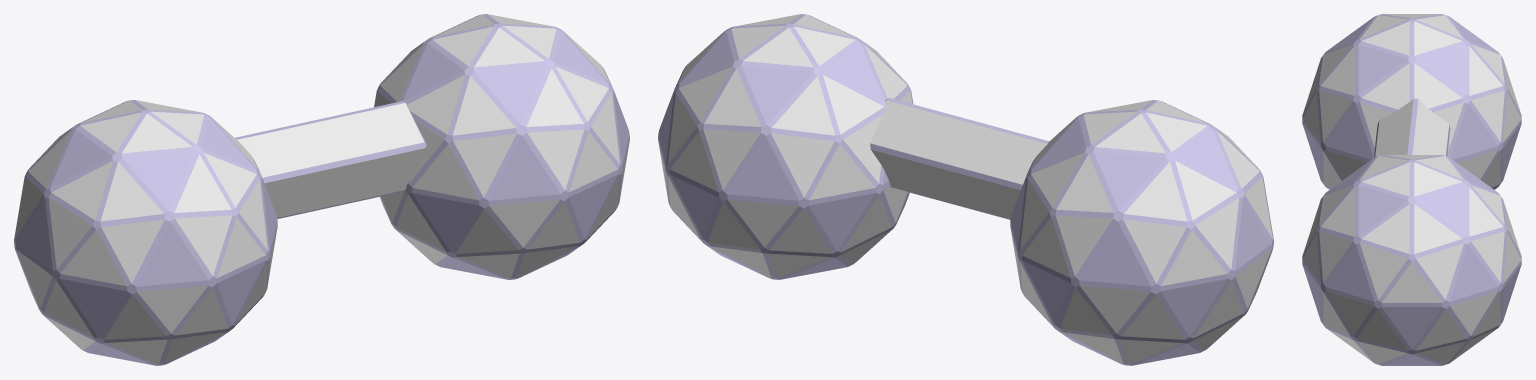
File: Baza.fbx
The picture shows the model from 3 angles, left to right: view 1: azimuth 30°, elevation 25°; view 2: azimuth 150°, elevation 25°; view 3: azimuth 270°, elevation 25°; orthographic projection. The views are drawn at different scales.
Parts seen in each view (by area): view 1: Cylinder; view 2: Cylinder; view 3: Cylinder.
Boxes of the visible parts, x1,y1,x2,y2 form: Cylinder: (14,14,629,365); Cylinder: (658,14,1273,365); Cylinder: (1302,14,1521,365).
Bounding box in the file's own units: 3424 × 1382 × 1379.
